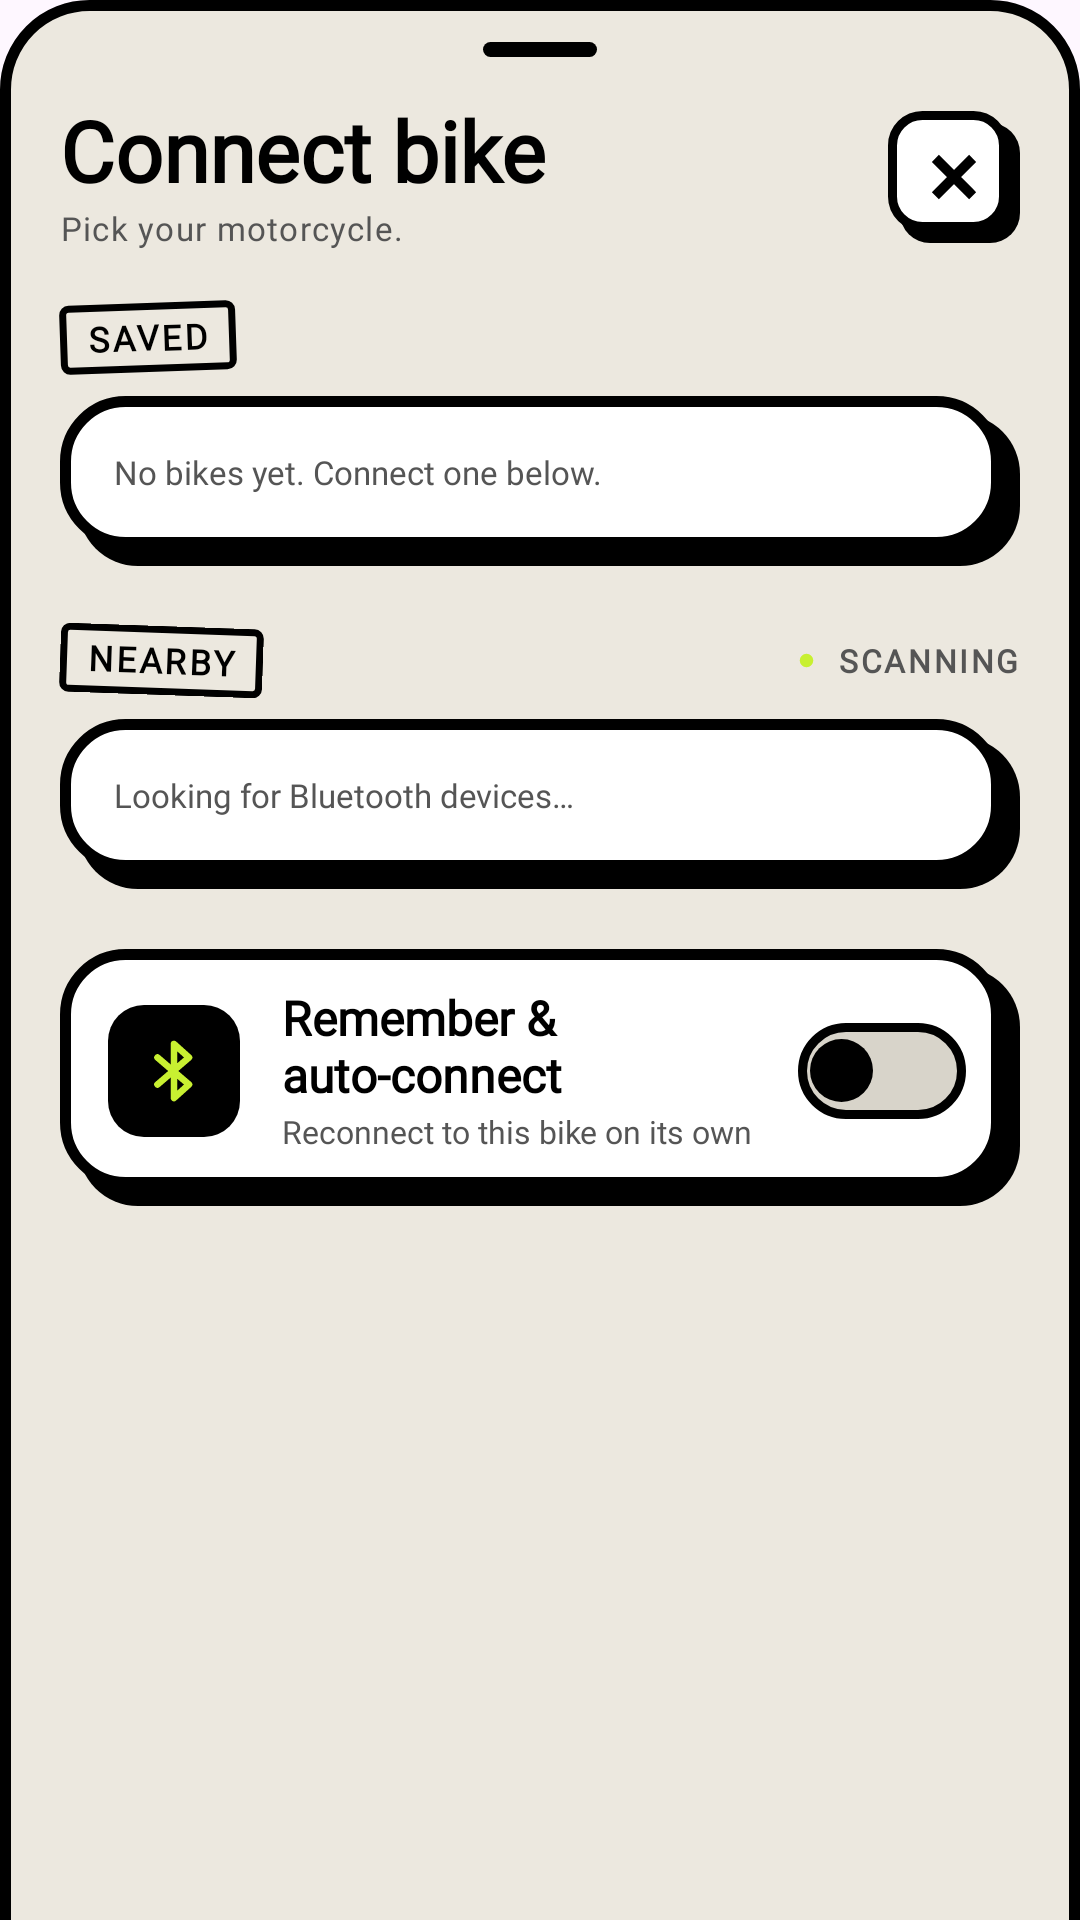

Screen size 1080*1920. Icon name, then its box in pixels as box=[x1, y1, x2, y2]:
Close: box=[888, 111, 1020, 243]
